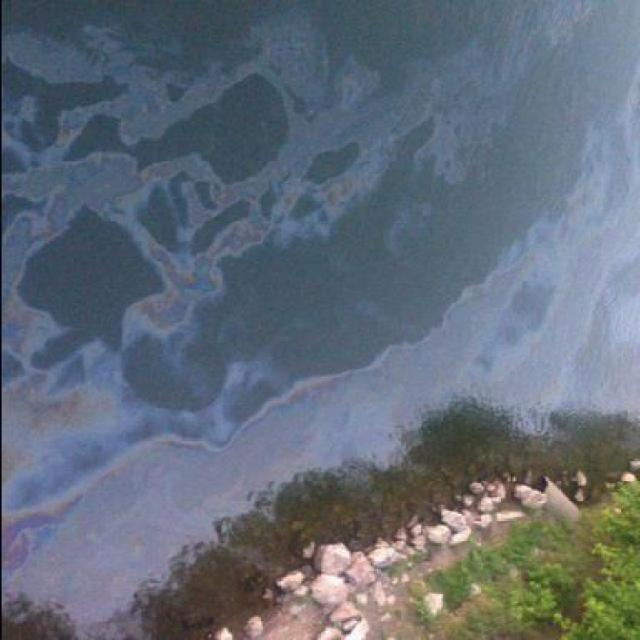sheen: (11, 198, 639, 620), (2, 17, 82, 452), (5, 340, 123, 510)
